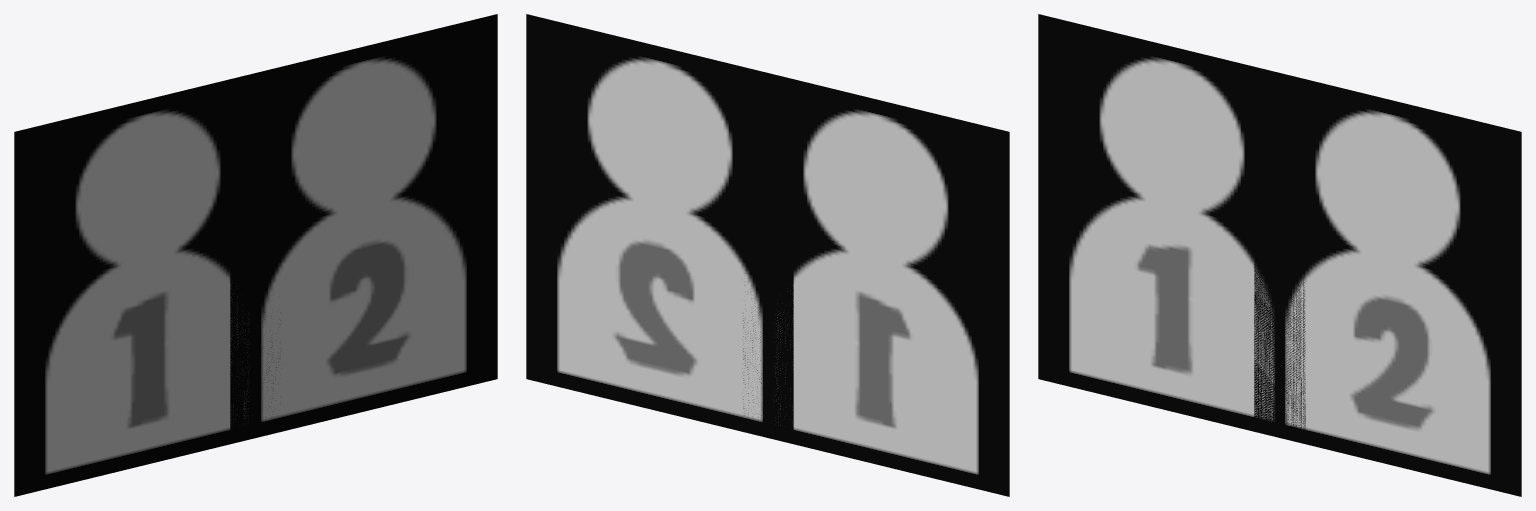
3 renders of one model, left to right at view 1: azimuth 30°, elevation 25°; view 2: azimuth 150°, elevation 25°; view 3: azimuth 330°, elevation 25°, orthographic.
Parts seen in each view (by area): view 1: Joint_0_Object_0; view 2: Joint_0_Object_0; view 3: Joint_0_Object_0.
Part boxes in pixels (<box>): Joint_0_Object_0: <box>14,14,497,496</box>; Joint_0_Object_0: <box>526,14,1009,496</box>; Joint_0_Object_0: <box>1038,14,1521,496</box>.
Bounding box in the file's own units: 150 × 108 × 0.
1 material, 1 textured.
